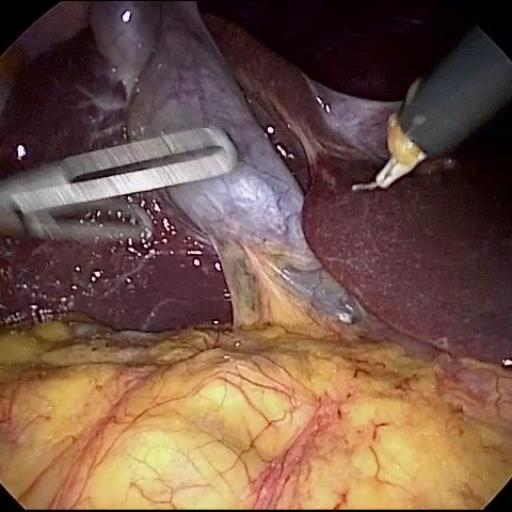Grasper: (0, 124, 257, 274)
Hook: (328, 80, 447, 213)
